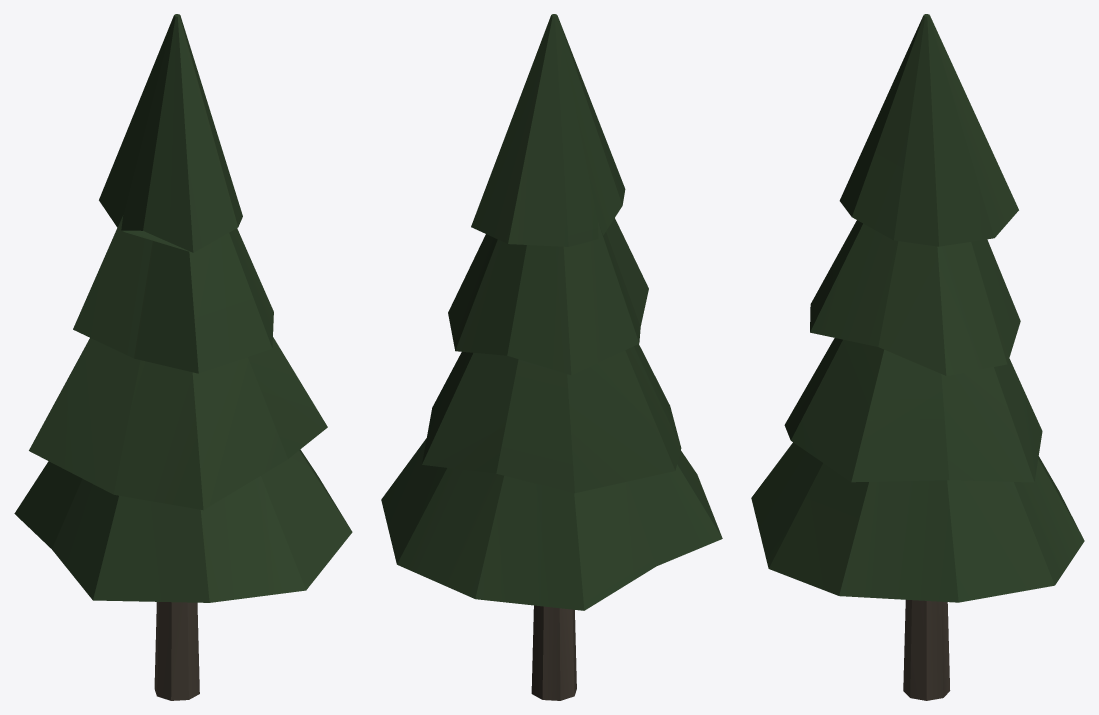
File: tree_pine_03.glb
3 views of the same model, side by side, from view 1: azimuth 30°, elevation 25°; view 2: azimuth 150°, elevation 25°; view 3: azimuth 270°, elevation 25° (orthographic).
Visible parts, largest first — view 1: tree_pine_03; view 2: tree_pine_03; view 3: tree_pine_03.
Part boxes in pixels (x1=…): tree_pine_03: x1=14, y1=14, x2=352, y2=700; tree_pine_03: x1=381, y1=14, x2=722, y2=700; tree_pine_03: x1=751, y1=14, x2=1084, y2=700.
Bounding box in the file's own units: 3.7 × 8.19 × 3.66.
